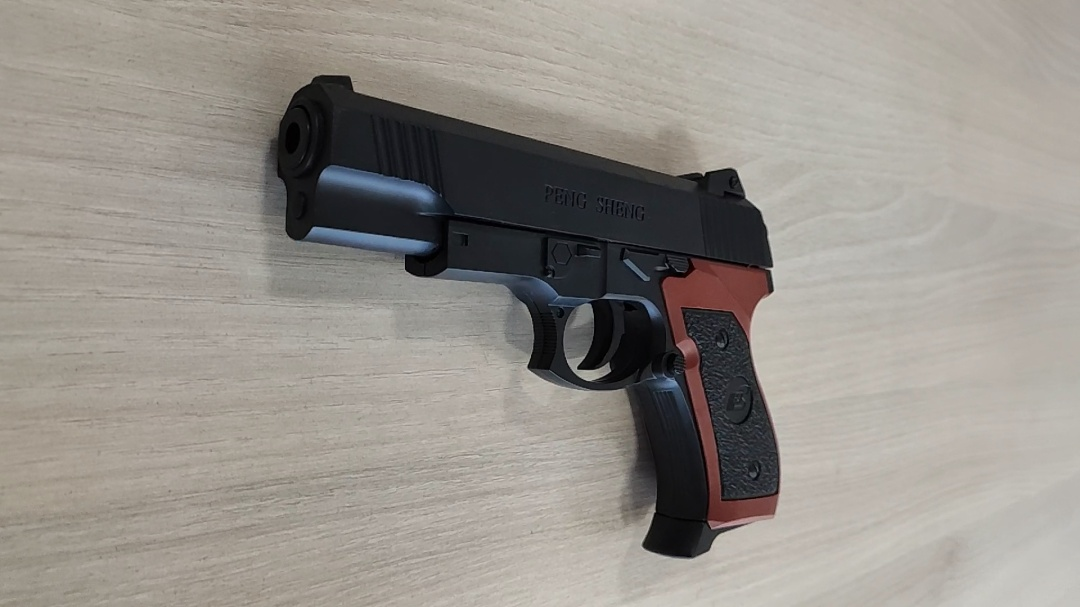gun: (609, 262, 658, 367)
